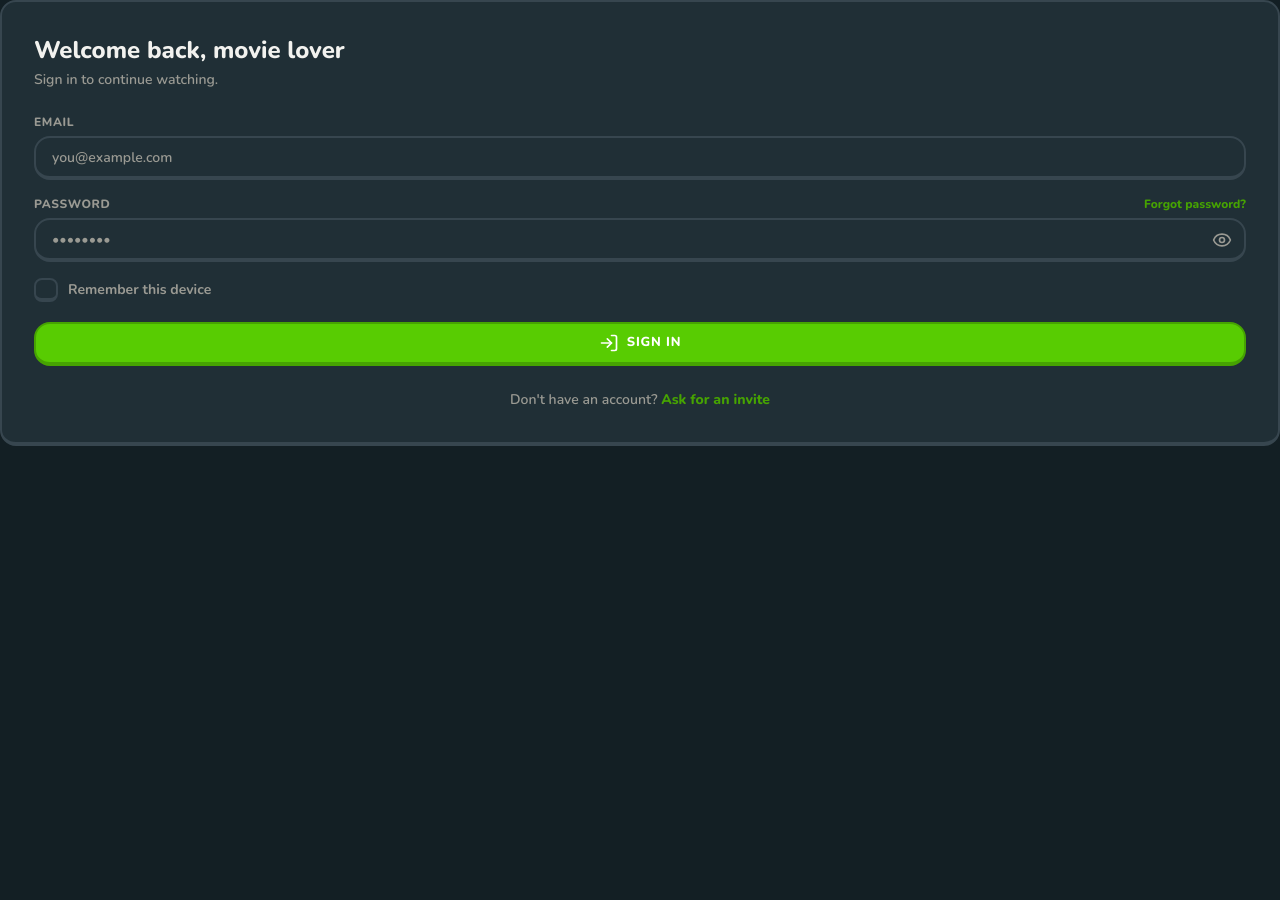
ViewerLoginForm › opens the forgot-password chunky dialog with admin contact info
Click the button "Forgot password?".
click(1195, 204)  # box [1144,196,1246,212]
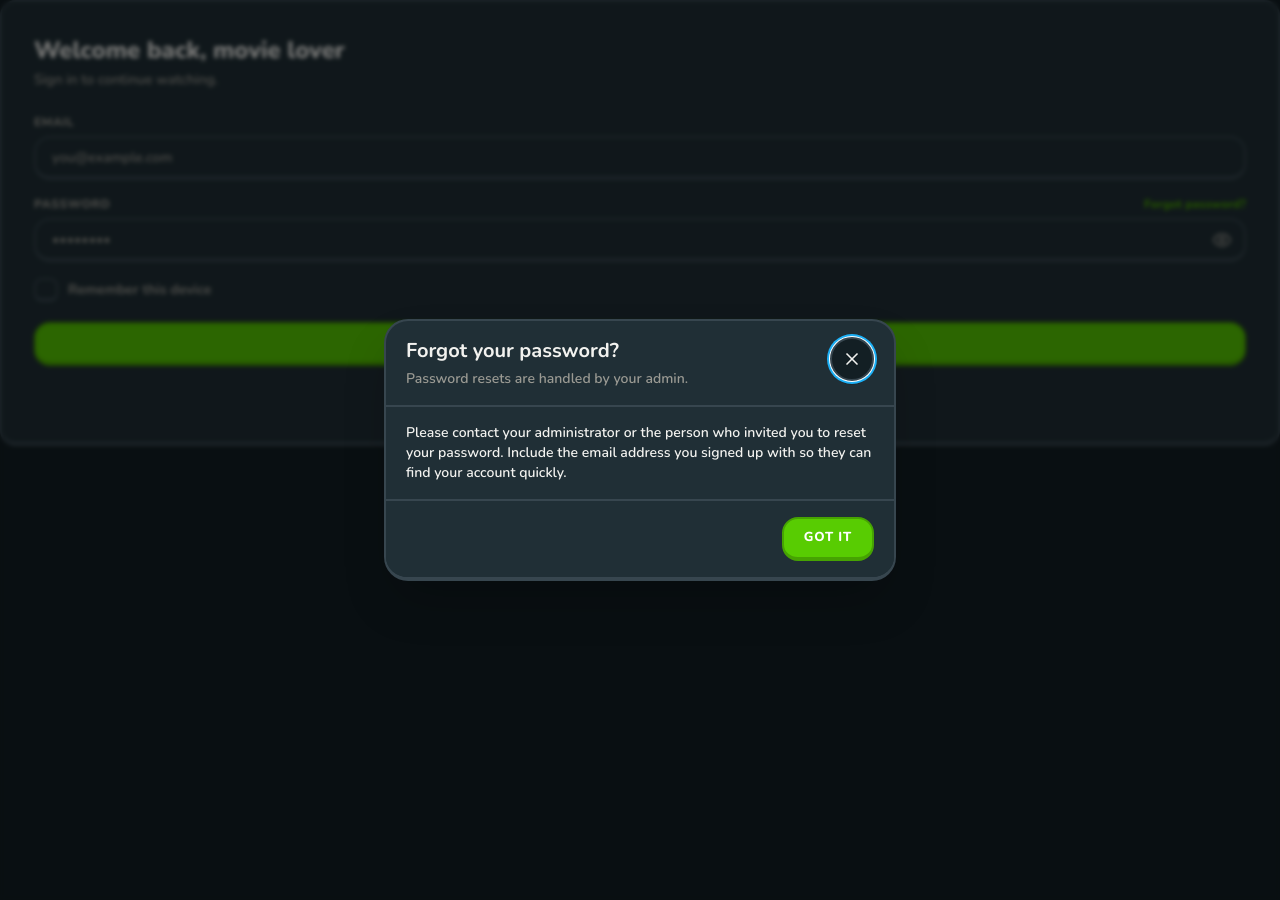
Expected: the dialog "Forgot your password" is shown, [384,319,896,581]
Expected: the text "contact your administrator" is shown, [406,423,871,482]
